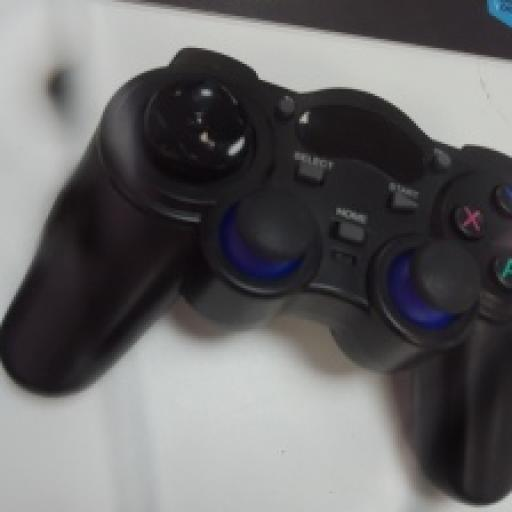game pad: (2, 48, 510, 503)
